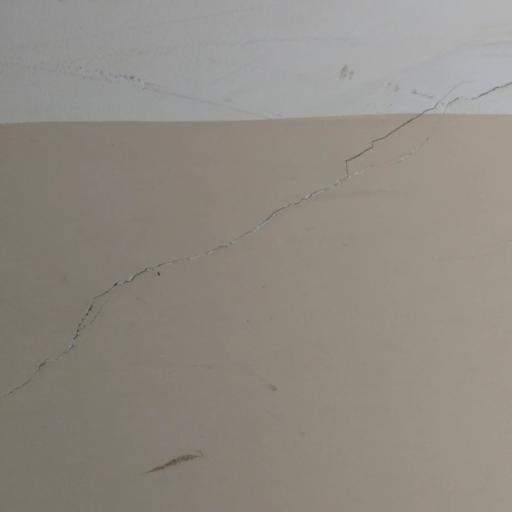minor_crack: (0, 59, 512, 412)
